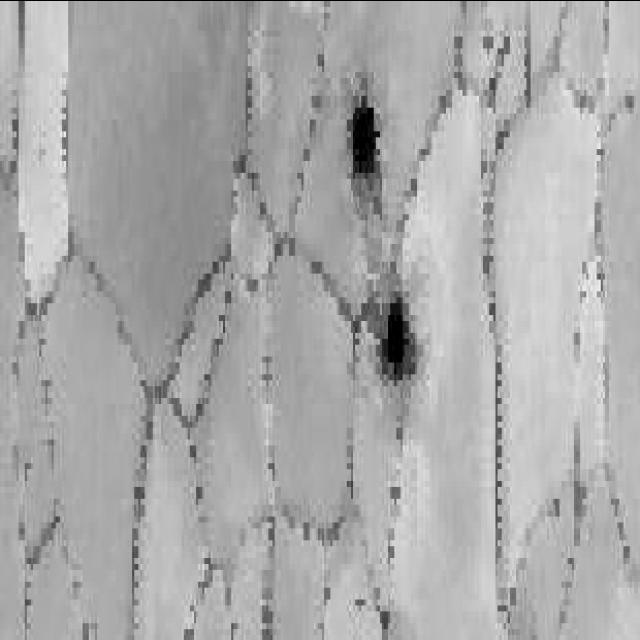good_void: (344, 63, 386, 224), (376, 280, 417, 381)
